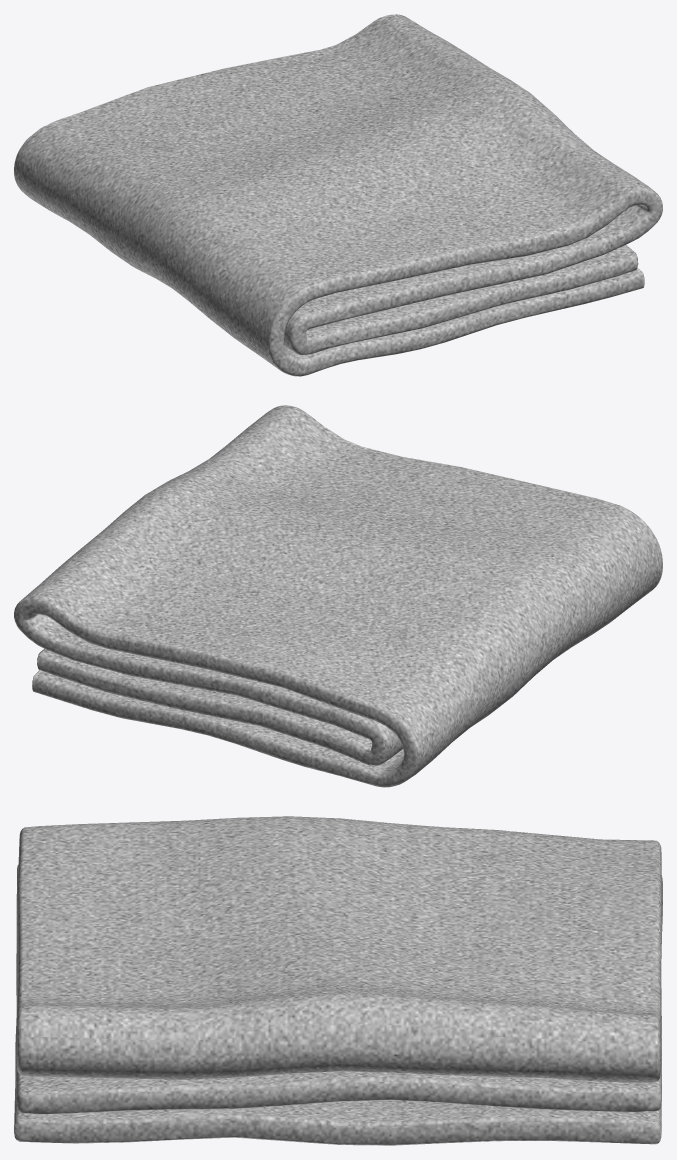
File: realtowel.glb
3 views of the same model, one above another, from view 1: azimuth 30°, elevation 25°; view 2: azimuth 150°, elevation 25°; view 3: azimuth 270°, elevation 25° (orthographic). The views are drawn at different scales.
Parts seen in each view (by area): view 1: towel002; view 2: towel002; view 3: towel002.
Boxes of the visible parts, box(x1,y1,x2,y2) form: towel002: box(14, 14, 662, 376); towel002: box(14, 405, 662, 787); towel002: box(14, 816, 662, 1145).
Bounding box in the file's own units: 0.3671 × 0.1062 × 0.4.
Materials: 1 (1 with a texture image).
